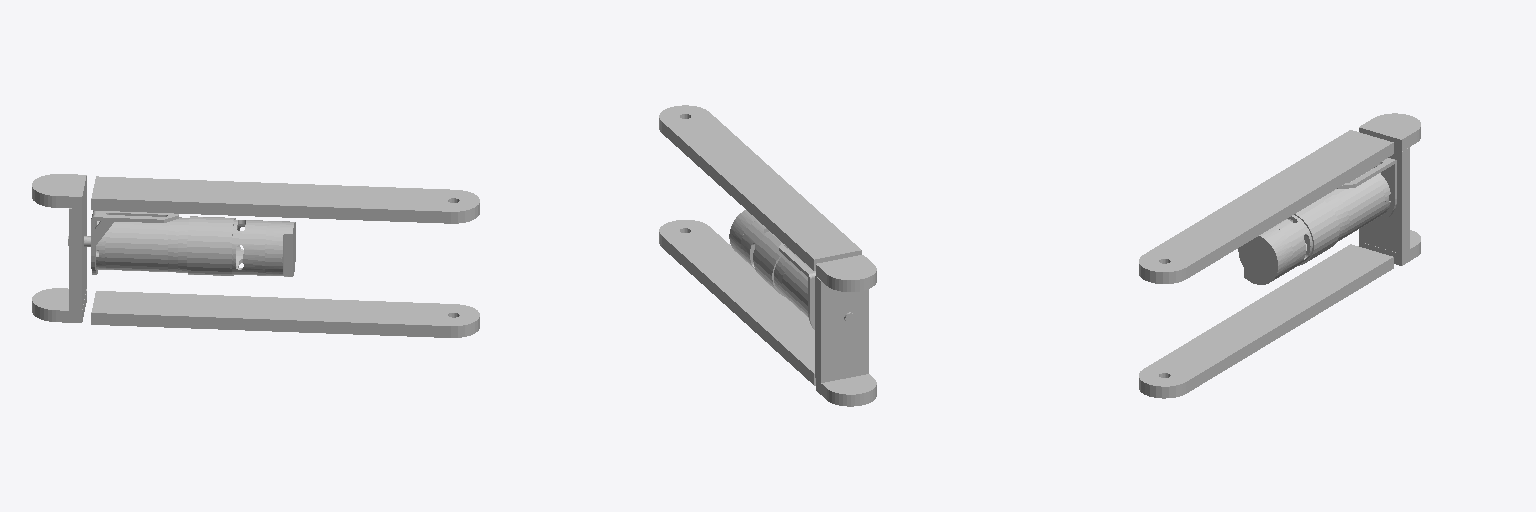
The model's file is LAST ARM R1.obj.
The picture shows the model from 3 angles: view 1: azimuth 30°, elevation 25°; view 2: azimuth 150°, elevation 25°; view 3: azimuth 270°, elevation 25°; orthographic projection.
Visible parts, largest first — view 1: Body8, Body9, Body10, Body4, Body3, Body11, Body6, Body2, Body5, Body13; view 2: Body8, Body9, Body3, Body11, Body10, Body2, Body4, Body5, Body6; view 3: Body8, Body9, Body10, Body3, Body6, Body4, Body11, Body5, Body2.
Part boxes in pixels (left/top/right/bottom): Body8: left=91, top=176, right=479, bottom=223; Body9: left=91, top=291, right=479, bottom=337; Body10: left=187, top=216, right=267, bottom=275; Body4: left=105, top=222, right=168, bottom=271; Body3: left=69, top=188, right=86, bottom=310; Body11: left=32, top=174, right=86, bottom=208; Body6: left=265, top=221, right=295, bottom=276; Body2: left=32, top=288, right=86, bottom=322; Body5: left=91, top=211, right=178, bottom=274; Body13: left=168, top=217, right=180, bottom=272; Body8: left=659, top=105, right=861, bottom=270; Body9: left=659, top=220, right=815, bottom=385; Body3: left=815, top=276, right=868, bottom=382; Body11: left=816, top=255, right=876, bottom=291; Body10: left=741, top=220, right=789, bottom=296; Body2: left=816, top=374, right=876, bottom=406; Body4: left=782, top=257, right=809, bottom=317; Body5: left=779, top=243, right=815, bottom=329; Body6: left=729, top=210, right=768, bottom=261; Body8: left=1139, top=130, right=1393, bottom=283; Body9: left=1139, top=244, right=1393, bottom=398; Body10: left=1275, top=199, right=1339, bottom=271; Body3: left=1359, top=147, right=1409, bottom=253; Body6: left=1238, top=226, right=1292, bottom=284; Body4: left=1331, top=172, right=1384, bottom=237; Body11: left=1359, top=113, right=1420, bottom=151; Body5: left=1337, top=158, right=1396, bottom=221; Body2: left=1359, top=230, right=1420, bottom=265.
Size of the model in its own units: 28.62 by 10.61 by 21.52.